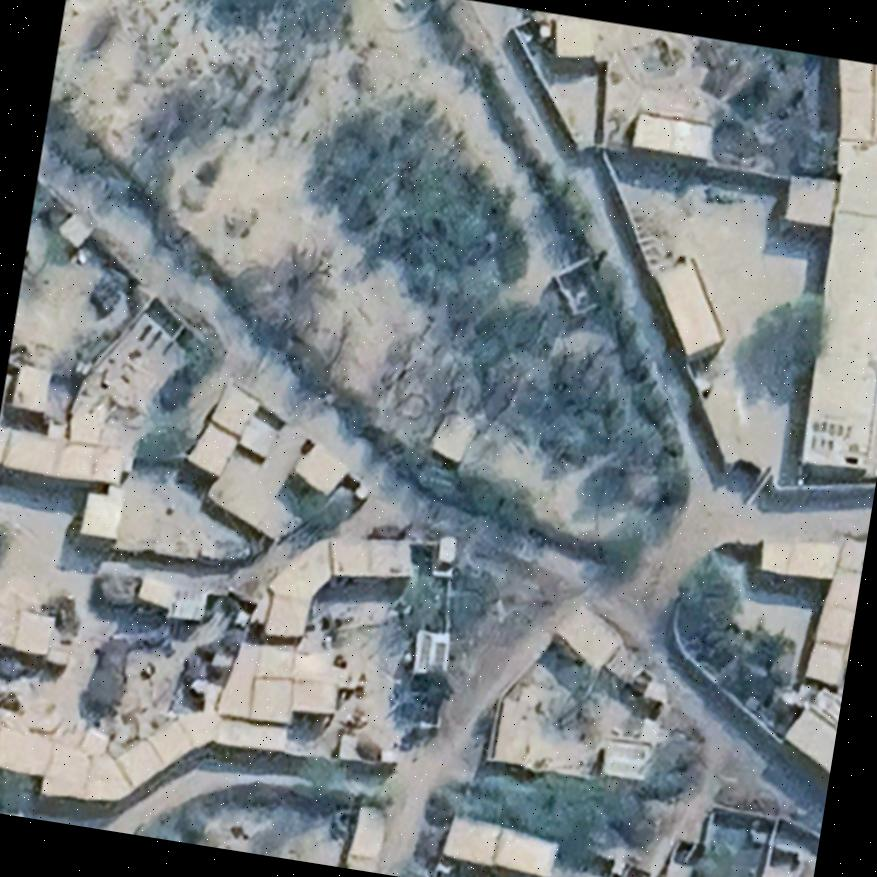Solarpanel: (804, 414, 860, 458), (413, 627, 449, 673)
